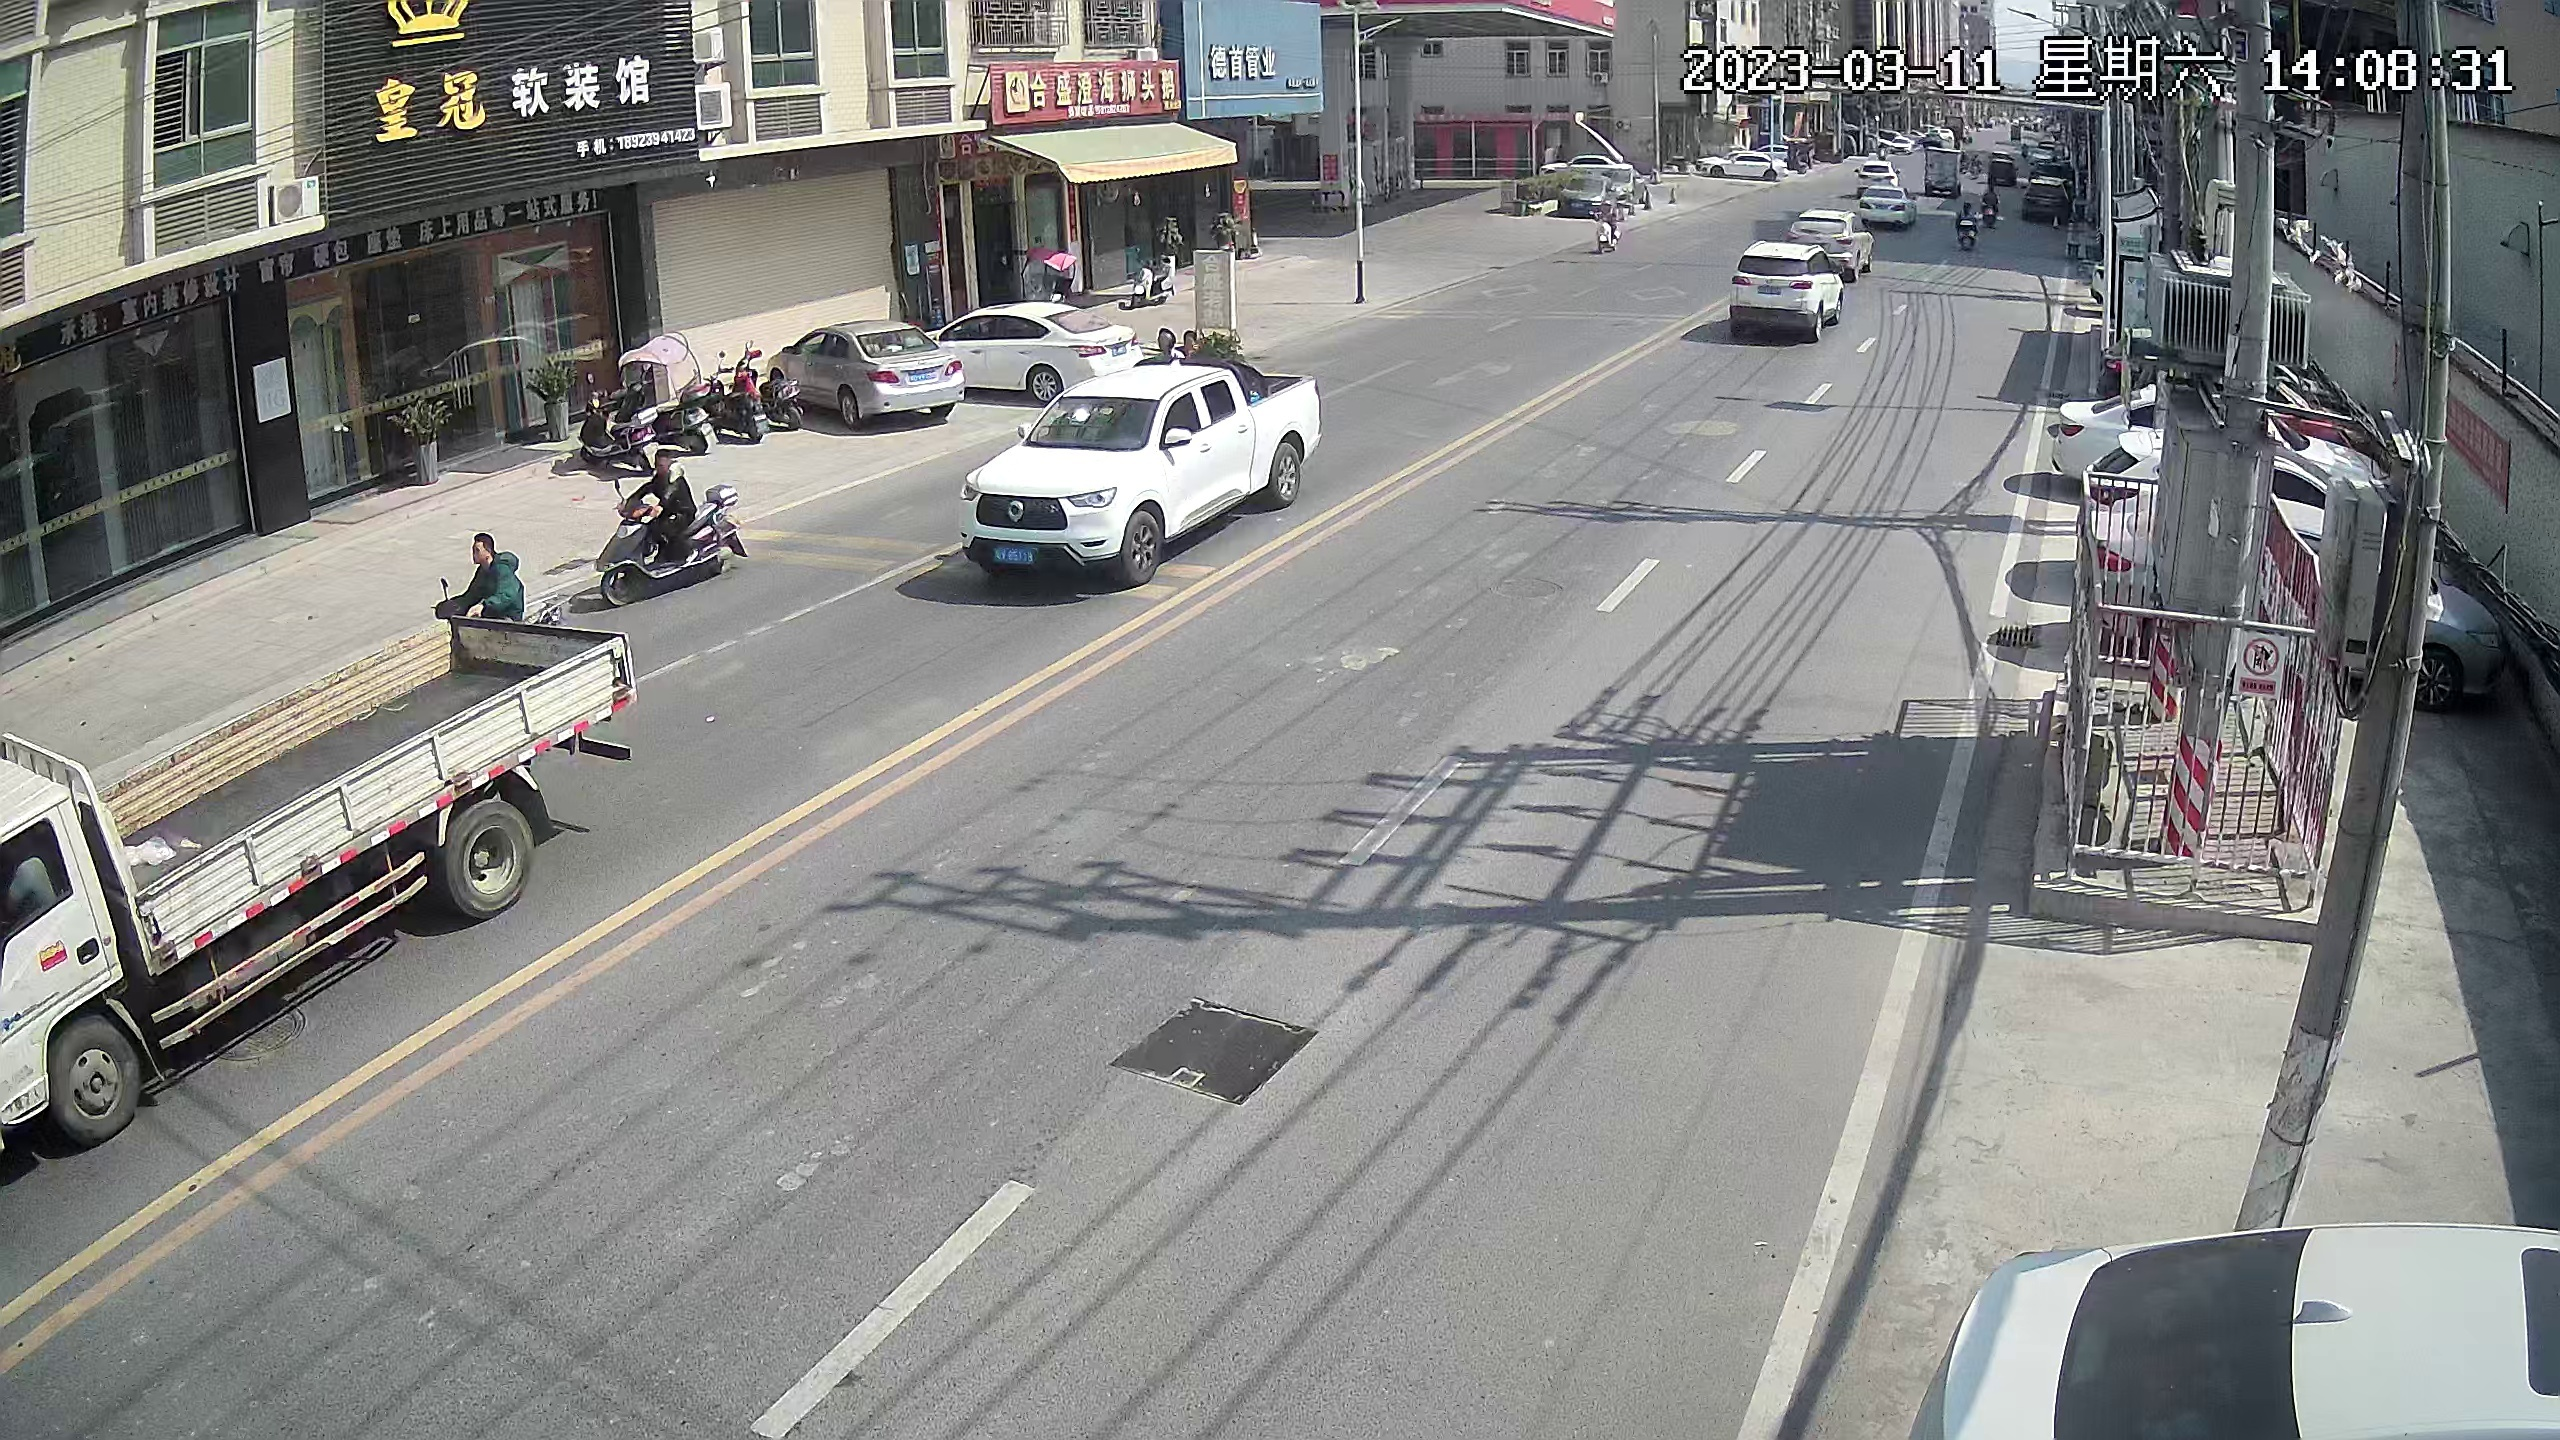head: (1143, 328, 1179, 355)
motorcycle: (609, 458, 757, 604), (635, 347, 708, 447), (572, 377, 645, 465), (710, 353, 759, 442), (760, 358, 803, 423), (1142, 253, 1174, 308), (1955, 199, 1984, 255), (1599, 199, 1624, 257)
person: (457, 527, 528, 624), (653, 449, 699, 543)
pickup: (972, 363, 1320, 605)
sedan: (1940, 1210, 2528, 1440), (2095, 507, 2494, 688), (2110, 432, 2383, 517), (2068, 387, 2350, 450), (802, 330, 954, 425), (964, 308, 1130, 384), (1703, 147, 1779, 188), (1867, 177, 1915, 233), (2030, 173, 2069, 227), (1572, 169, 1603, 208)
suv: (1733, 243, 1845, 337), (1803, 209, 1865, 268)
truck: (4, 619, 623, 1162), (1927, 148, 1960, 197)
